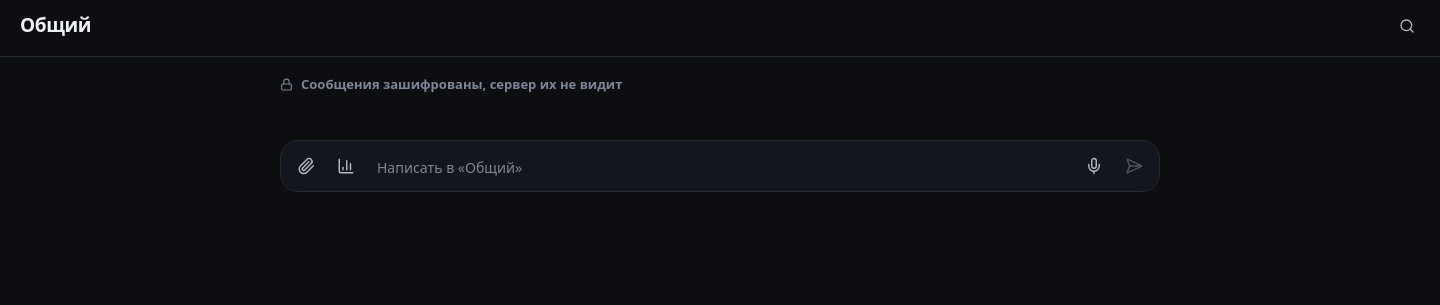
Scenario: attachments › refuses a pasted file over 25 MB and an eleventh file before sending
The image size is (1440, 305).
Click the button named "Прикрепить": (306, 166) x1=287 y1=147 x2=325 y2=185
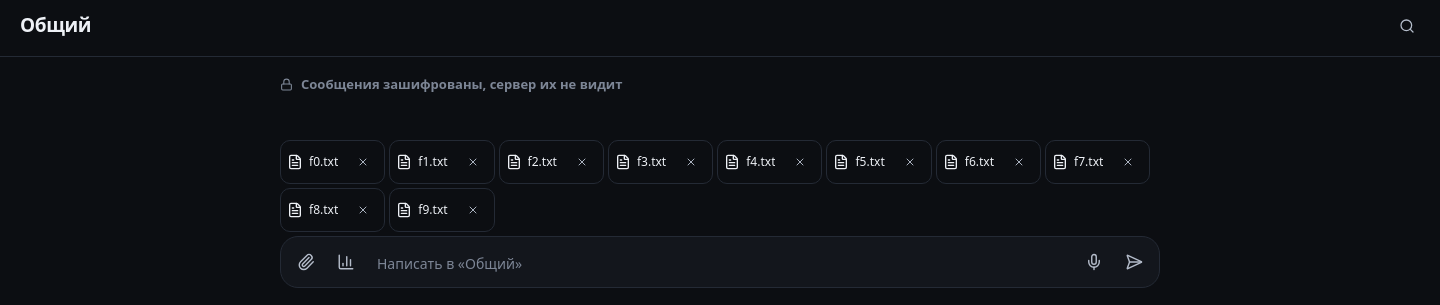
Result: the number of list items is 10
